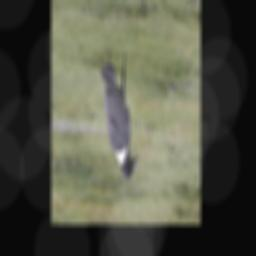Crow: (100, 53, 136, 181)
